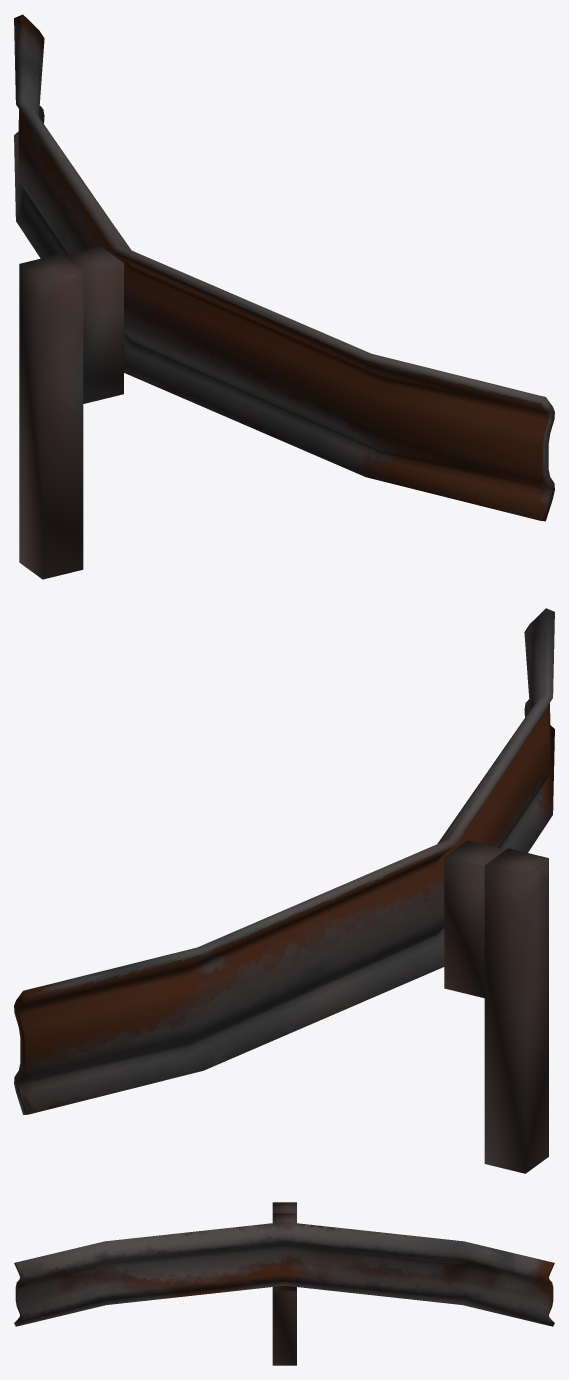
File: Segment#3(CornerInWard).fbx
3 renders of one model, top to bottom at view 1: azimuth 30°, elevation 25°; view 2: azimuth 150°, elevation 25°; view 3: azimuth 270°, elevation 25°, orthographic. The views are drawn at different scales.
Visible parts, largest first — view 1: Cube.005, Cube.003; view 2: Cube.005, Cube.003; view 3: Cube.005, Cube.003.
Part boxes in pixels (x1=…): Cube.005: x1=14, y1=14, x2=554, y2=521; Cube.003: x1=19, y1=246, x2=123, y2=579; Cube.005: x1=14, y1=608, x2=554, y2=1114; Cube.003: x1=444, y1=840, x2=548, y2=1173; Cube.005: x1=14, y1=1222, x2=554, y2=1326; Cube.003: x1=272, y1=1202, x2=296, y2=1365.
Bounding box in the file's own units: 80.62 × 87.18 × 274.
